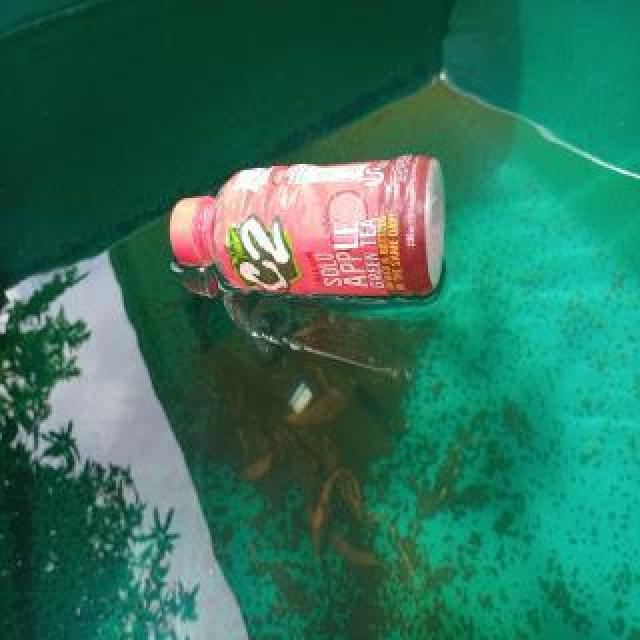bottle: (169, 149, 447, 303)
